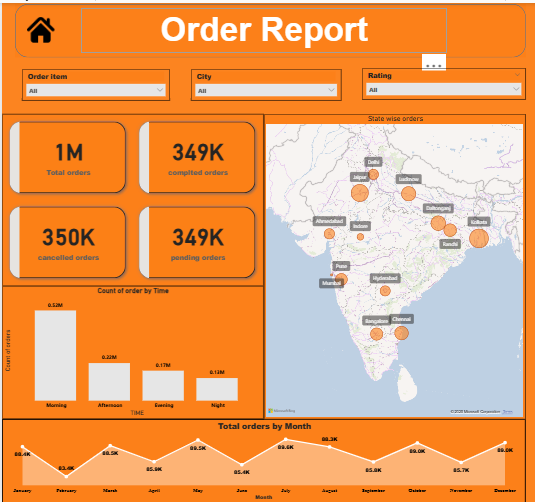

The page's visual inventory and layout, read from the dashboard file:
{"tool":"powerbi","page":{"name":"Order Report","canvas":[1280,1200],"ordinal":1},"visuals":[{"type":"shape","box":[30.4,2.2,1226.1,128.3],"z":0},{"type":"textbox","box":[188.8,13.2,879.5,106.8],"z":1000},{"type":"lineChart","fields":{"Y":["Table.Total orders"],"Category":["Date.Date.Variation.Date Hierarchy.Month"]},"box":[0,997.8,1256.5,202.2],"z":2000},{"type":"cardVisual","fields":{"Data":["Table.Total orders","Table.complted orders","Table.cancelled orders","Table.pending orders"]},"box":[0,266,627.7,412.8],"z":3000},{"type":"columnChart","title":"Count of order by Time","fields":{"Category":["Orders.order ttt"],"Y":["CountNonNull(Orders.order ttt)"]},"box":[0,678.7,627.7,319.1],"z":4000},{"type":"slicer","fields":{"Values":["Orders.order_item"]},"box":[48.5,157.6,354.5,75.8],"z":5000},{"type":"slicer","fields":{"Values":["Restaurant.city"]},"box":[453,157.6,360.6,75.8],"z":6000},{"type":"slicer","fields":{"Values":["Orders.rating"]},"box":[863,156.5,393.5,76.1],"z":7000},{"type":"map","title":"State wise orders","fields":{"Category":["Restaurant.city"],"Size":["CountNonNull(Orders.order_id)"]},"box":[628.3,265.2,628.3,732.6],"z":8000},{"type":"image","box":[47.8,26.1,89.1,76.1],"z":9000}]}

Visuals, with their boxes in screenshot pixels (x1, y1, x2, y2), scaled from the page's 1280x1200 canvas onto the 535x502 screenshot:
shape: detection(13, 1, 525, 55)
textbox: detection(79, 6, 447, 50)
lineChart - Table.Total orders x Date.Date.Variation.Date Hierarchy.Month: detection(0, 417, 525, 501)
cardVisual - Table.Total orders x Table.complted orders: detection(0, 111, 262, 284)
"Count of order by Time" columnChart: detection(0, 284, 262, 417)
slicer - Orders.order_item: detection(20, 66, 168, 98)
slicer - Restaurant.city: detection(189, 66, 340, 98)
slicer - Orders.rating: detection(361, 65, 525, 97)
"State wise orders" map: detection(263, 111, 525, 417)
image: detection(20, 11, 57, 43)
